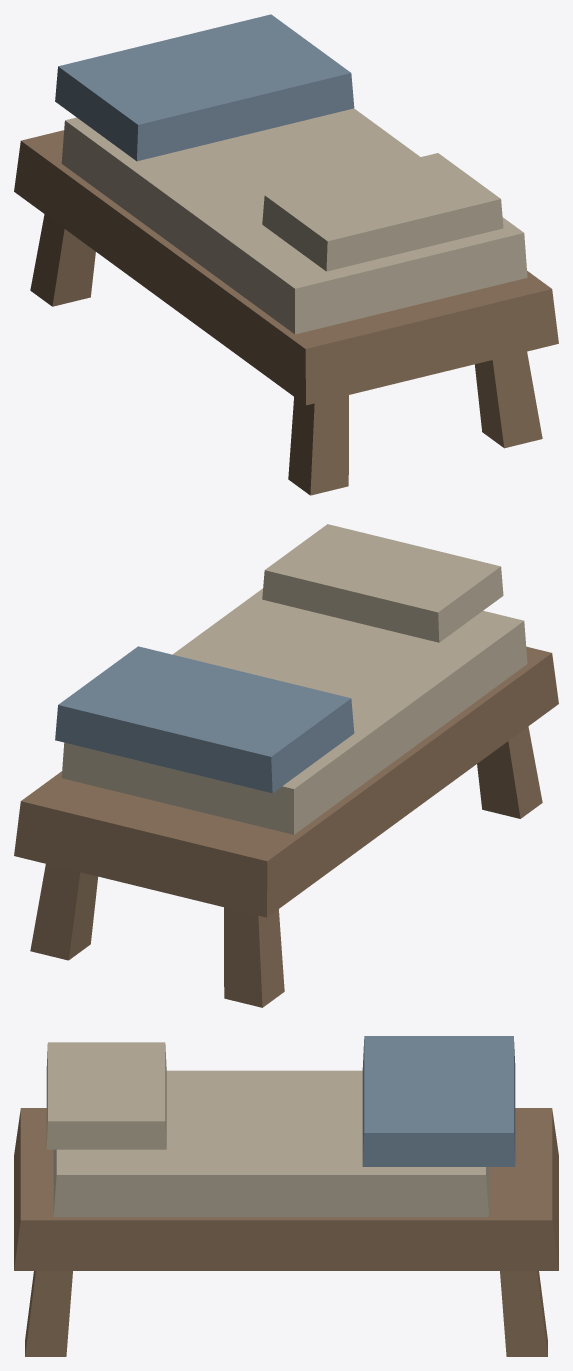
The model's file is basicbed_single_refined.glb.
3 views of the same model, one above another, from view 1: azimuth 30°, elevation 25°; view 2: azimuth 150°, elevation 25°; view 3: azimuth 270°, elevation 25° (orthographic). The views are drawn at different scales.
Visible parts, largest first — view 1: part_5, part_4, part_6, part_7, part_1, part_3, part_0; view 2: part_5, part_4, part_6, part_7, part_0, part_2, part_1; view 3: part_5, part_4, part_6, part_7, part_2, part_3.
Boxes of the visible parts, box(x1,y1,x2,y2) form: part_5: box(61, 108, 527, 334); part_4: box(14, 130, 558, 405); part_6: box(55, 14, 354, 161); part_7: box(262, 153, 503, 271); part_1: box(288, 395, 348, 495); part_3: box(474, 351, 542, 448); part_0: box(30, 214, 95, 306); part_5: box(61, 588, 527, 834); part_4: box(14, 646, 558, 917); part_6: box(55, 646, 354, 793); part_7: box(262, 524, 503, 642); part_0: box(224, 907, 284, 1007); part_2: box(30, 864, 97, 960); part_1: box(477, 726, 542, 818); part_5: box(53, 1070, 488, 1216); part_4: box(14, 1108, 558, 1270); part_6: box(362, 1036, 515, 1166); part_7: box(46, 1042, 166, 1149); part_2: box(500, 1271, 547, 1356); part_3: box(25, 1271, 72, 1356).
Size of the model in its own units: 0.9 by 0.81 by 1.8.
